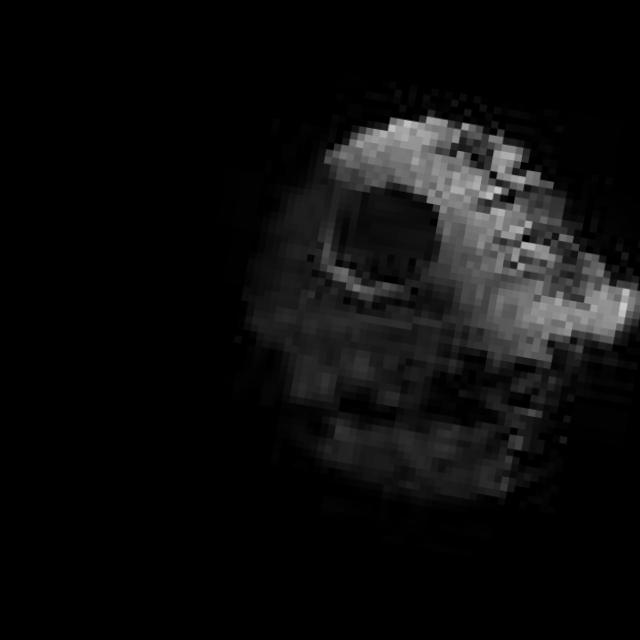Death Star: (207, 74, 640, 551)
